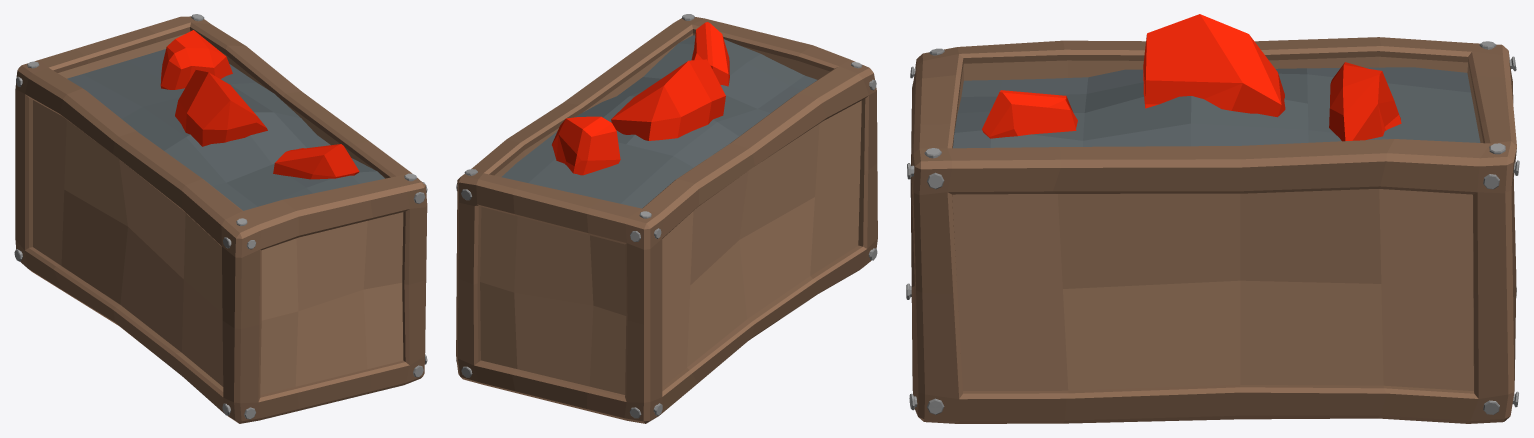
The model's file is Crate_Long_Red.fbx.
3 renders of one model, left to right at view 1: azimuth 30°, elevation 25°; view 2: azimuth 150°, elevation 25°; view 3: azimuth 270°, elevation 25°, orthographic. The views are drawn at different scales.
Parts seen in each view (by area): view 1: Crate_Long_Red, Red; view 2: Crate_Long_Red, Red; view 3: Crate_Long_Red, Red.
Boxes of the visible parts, x1,y1,x2,y2 form: Crate_Long_Red: [14, 14, 427, 423]; Red: [160, 30, 359, 179]; Crate_Long_Red: [456, 14, 877, 423]; Red: [552, 22, 729, 175]; Crate_Long_Red: [906, 37, 1519, 423]; Red: [982, 14, 1401, 141].
Size of the model in its own units: 71.1 by 87.64 by 142.
